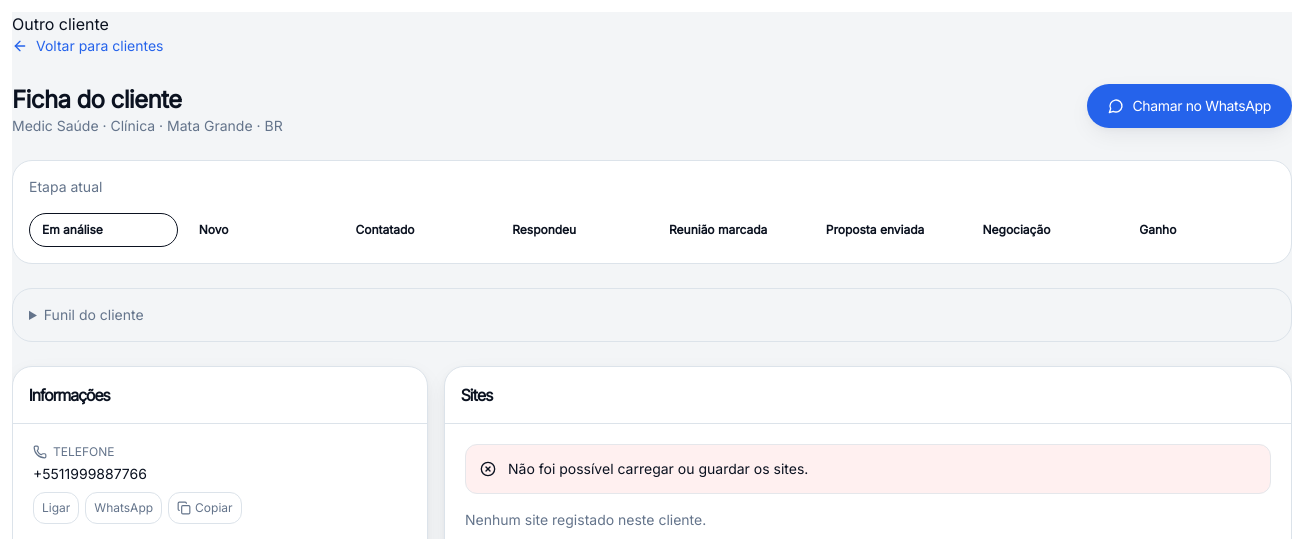
it: LeadDetailPage › avança o cliente no funil com um clique na etapa
What coordinates should you click on to do the following:
click the heading "Funil do cliente"
I would click on:
 (94, 314)
Its box is [44,306,144,323].
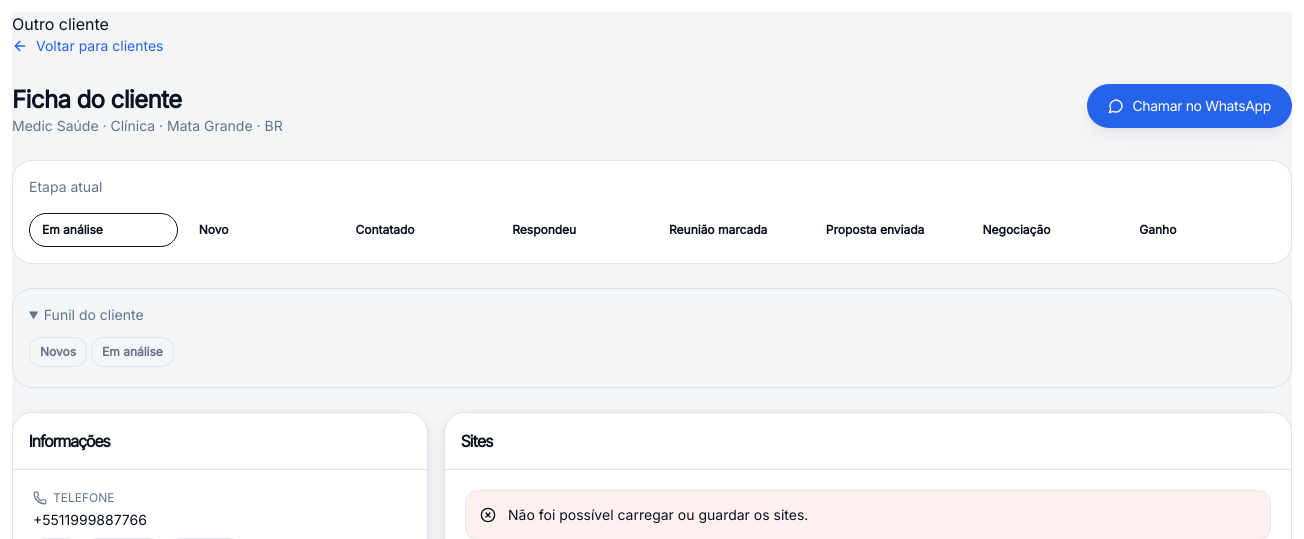
What coordinates should you click on to do the following:
click the button "Novos"
I would click on:
 (58, 352)
Its box is [29,337,87,367].
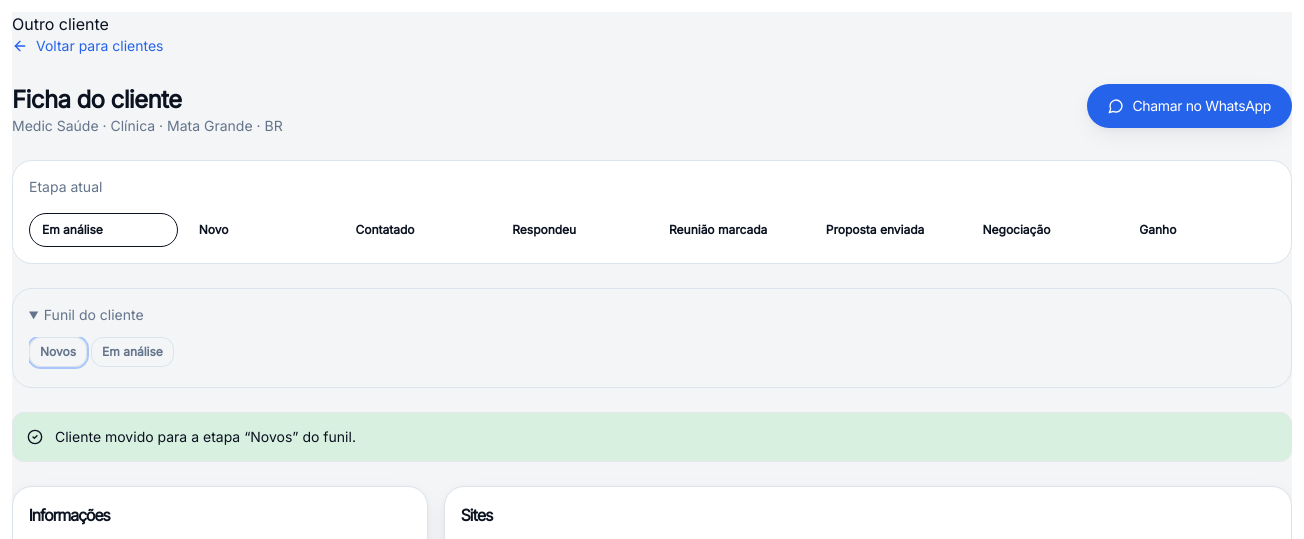
Now the text "Cliente movido para a etapa “Novos” do funil." is shown, box [55,428,356,445]
